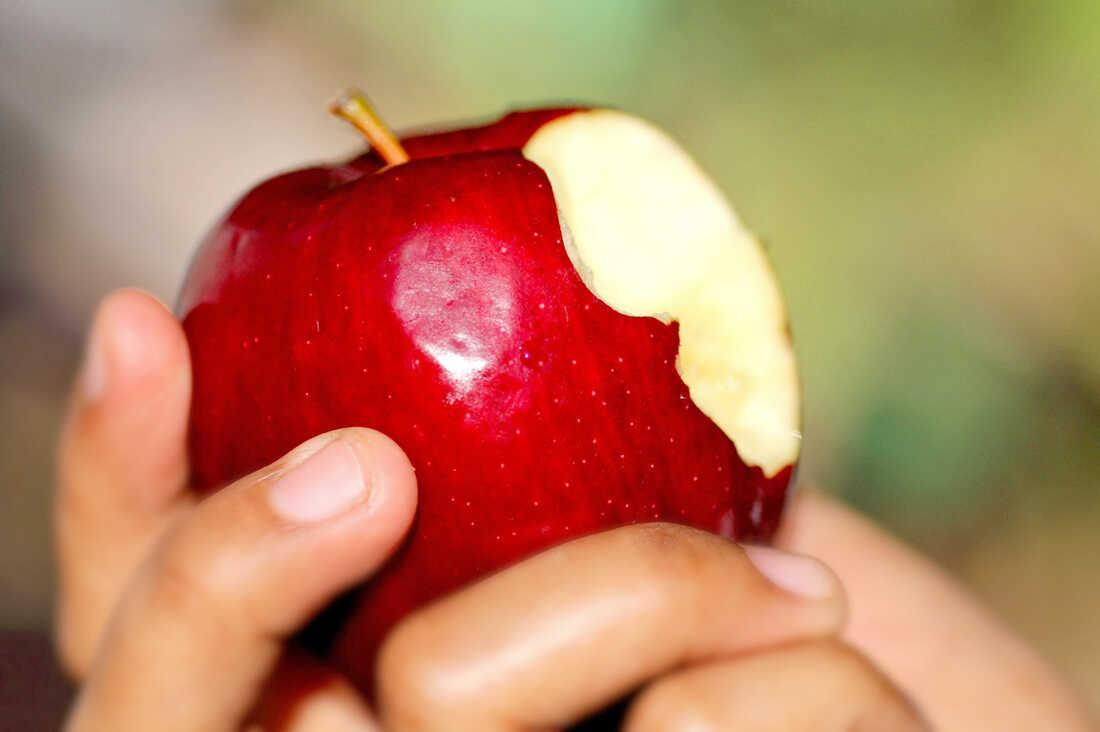apple: (134, 97, 823, 711)
